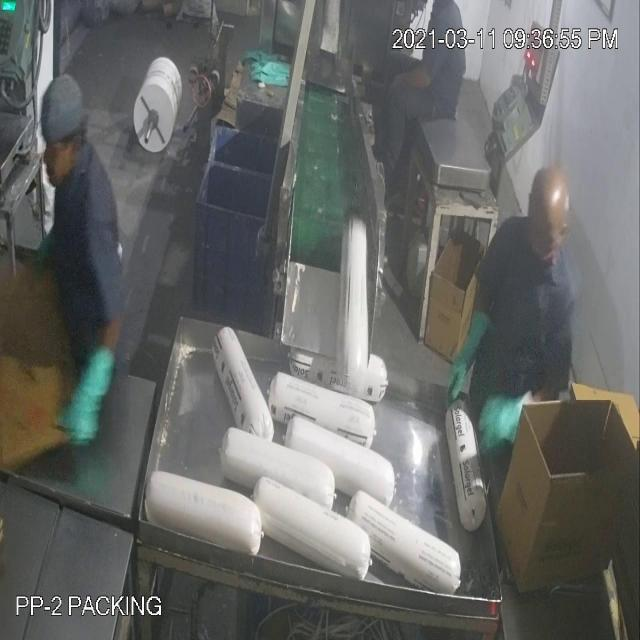Gloves: (48, 50, 514, 425)
